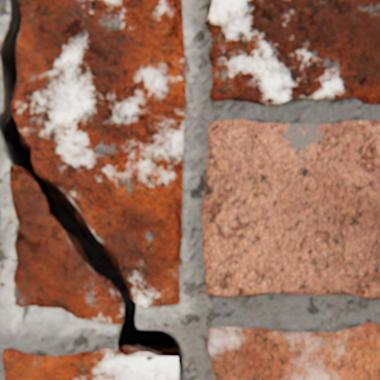brick: (201, 120, 379, 298), (205, 0, 379, 106), (206, 322, 379, 379), (3, 347, 179, 379)
broken_brick: (11, 0, 185, 307), (10, 166, 123, 324)
crack: (0, 0, 181, 379)
